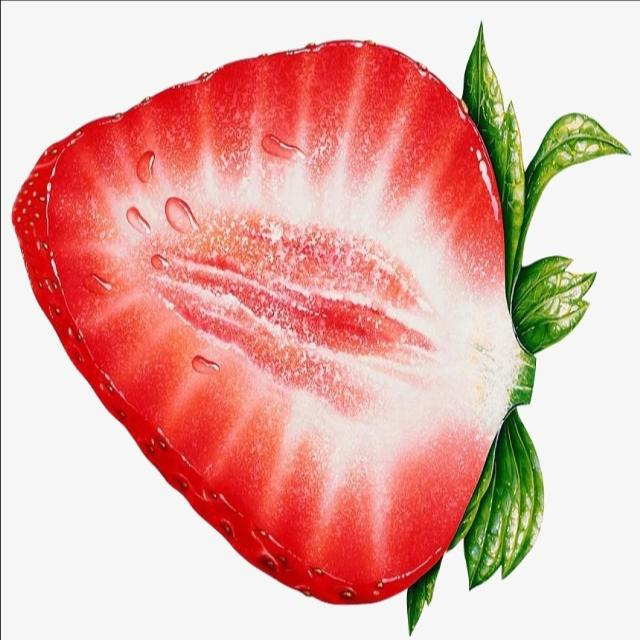strawberry: (0, 0, 591, 616)
